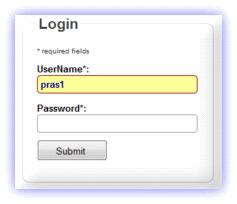button: (33, 137, 114, 163)
textbox: (36, 111, 200, 138)
